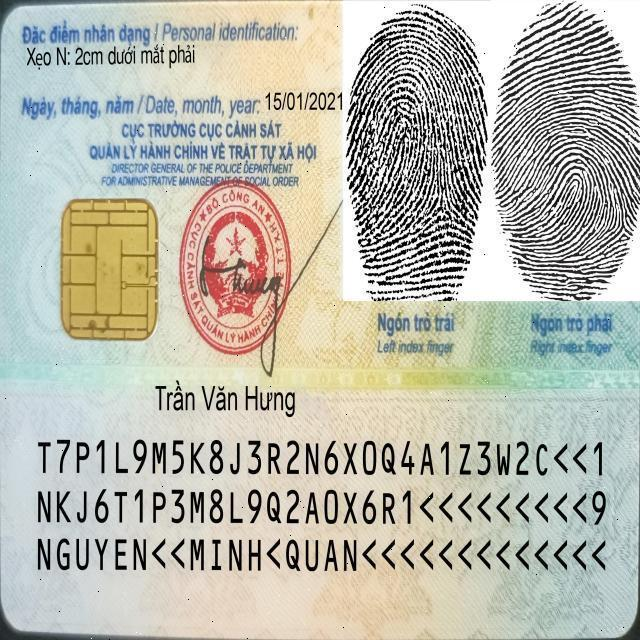features: (22, 44, 220, 70)
finger_print: (491, 4, 640, 356), (342, 3, 490, 354)
issue_date: (263, 86, 344, 116)
